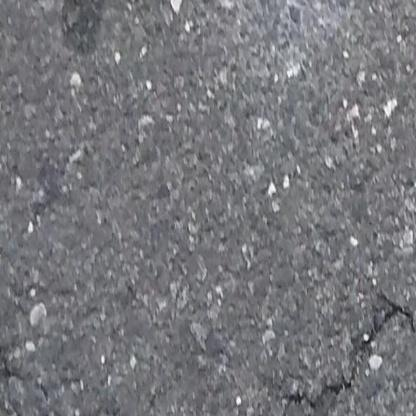Cracks: (326, 287, 416, 400), (0, 316, 27, 386), (271, 390, 323, 416)
